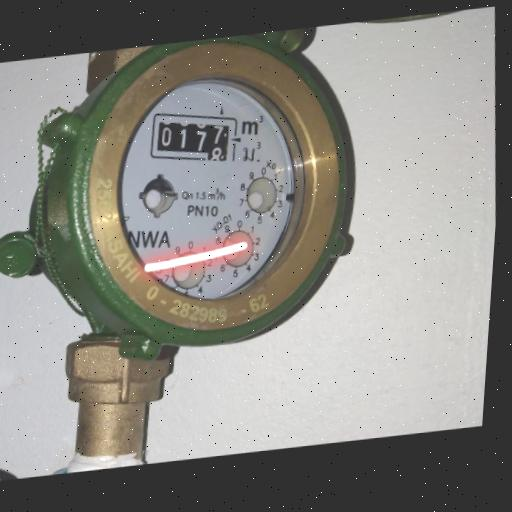0: (154, 120, 178, 153)
1: (170, 120, 194, 154)
7: (204, 123, 232, 164), (187, 122, 213, 156)
border_water_meter_number: (141, 103, 246, 174)
